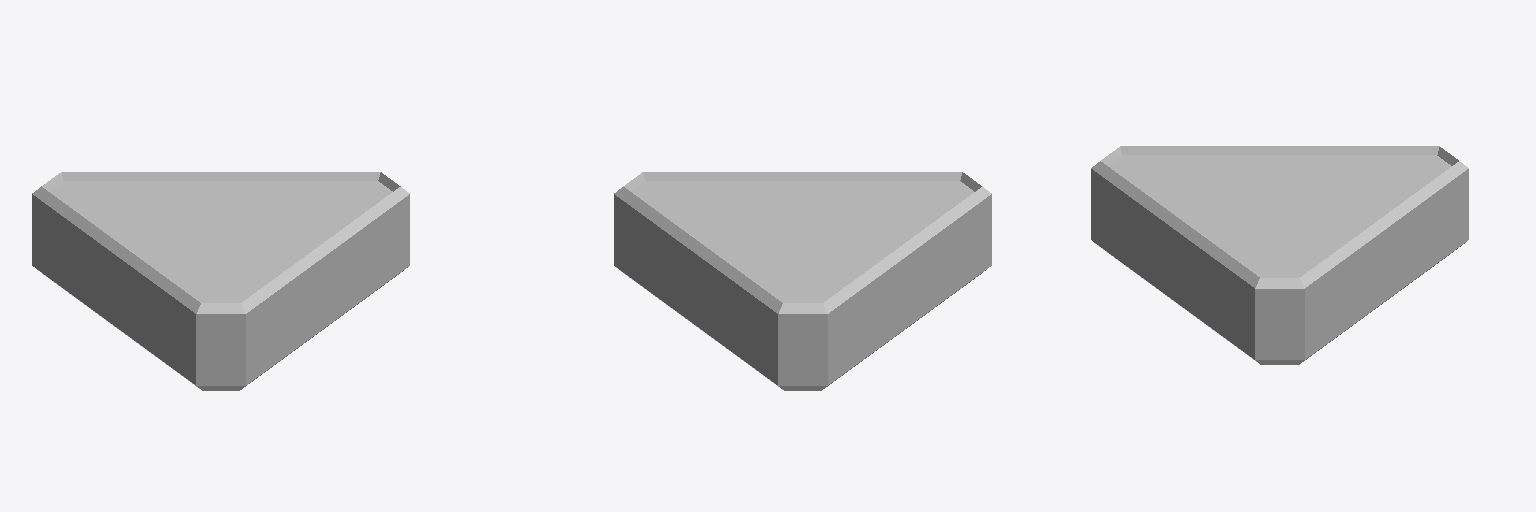
The model's file is Akira_Tri_01.obj.
3 views of the same model, side by side, from view 1: azimuth 30°, elevation 25°; view 2: azimuth 150°, elevation 25°; view 3: azimuth 270°, elevation 25° (orthographic).
Visible parts, largest first — view 1: Cylinder001, Object001; view 2: Cylinder001, Object001; view 3: Cylinder001, Object001.
Boxes of the visible parts, <box> form: Cylinder001: <box>32,172,409,390</box>; Object001: <box>50,181,392,302</box>; Cylinder001: <box>614,172,991,390</box>; Object001: <box>631,181,973,302</box>; Cylinder001: <box>1091,146,1468,364</box>; Object001: <box>1108,155,1451,277</box>.
Size of the model in its own units: 13.06 by 3.87 by 15.08.